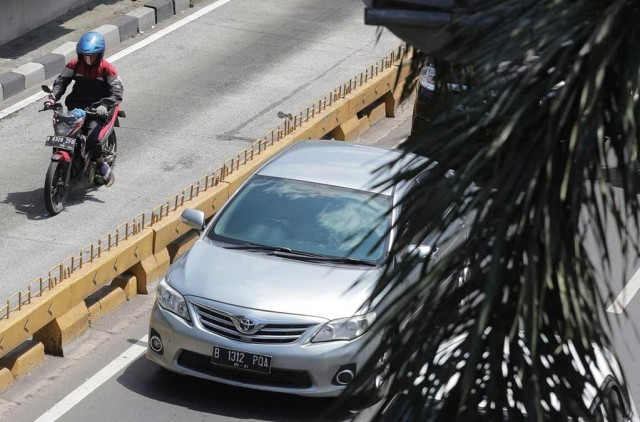car: (146, 138, 485, 400)
motorbike: (39, 31, 130, 211)
